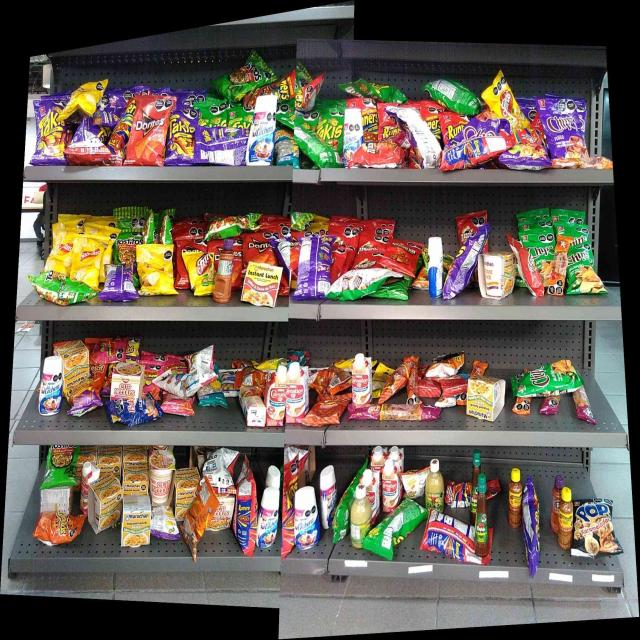bitzEnchilado90: (312, 397, 345, 422)
bitzEnchilado95: (552, 240, 567, 294), (554, 160, 612, 169)
bitzHabanero: (351, 405, 440, 420), (576, 393, 592, 422)
bokadosCacahuates: (110, 398, 156, 421)
botaneraChilito: (558, 487, 572, 550), (508, 467, 522, 530)
cheetosFlaminHot: (67, 384, 98, 414)
cheetosOriginal: (37, 516, 81, 544)
chipsFuego: (545, 100, 585, 159)
chipsJalapeno: (513, 363, 578, 391), (569, 249, 601, 294)
churrumais: (91, 338, 126, 362), (146, 361, 160, 396)
delPrimoSalsa: (350, 484, 369, 547), (425, 458, 444, 507)
doritosNacho: (134, 96, 164, 166), (244, 231, 278, 260)
fritosLimon: (490, 78, 522, 126), (188, 252, 212, 296)
leoCacahuates: (162, 373, 195, 393), (222, 369, 238, 395)
maruchanPollo: (467, 376, 505, 418), (479, 252, 511, 298), (91, 481, 120, 529), (122, 496, 148, 545), (64, 342, 88, 382)
maruchanRes: (244, 262, 280, 305)
nestleCarnation: (288, 364, 308, 422), (351, 353, 372, 403), (268, 366, 285, 426), (382, 460, 400, 500), (80, 462, 88, 515)
nestleLechera: (250, 96, 274, 165), (294, 486, 318, 546), (40, 357, 62, 415), (258, 488, 277, 548), (319, 465, 336, 527), (427, 236, 443, 298), (344, 108, 362, 155)
nissinCamaron: (150, 451, 174, 504)
popKarameladas: (574, 498, 617, 558)
productoAtras: (373, 502, 419, 555), (426, 510, 472, 560), (402, 106, 436, 168), (447, 234, 478, 299), (444, 136, 500, 169), (198, 127, 246, 165), (299, 238, 329, 298), (186, 486, 212, 552), (334, 268, 385, 300), (524, 478, 540, 576), (430, 78, 478, 106), (202, 450, 234, 483), (105, 264, 135, 298), (297, 125, 321, 167), (312, 368, 349, 392), (240, 390, 264, 426), (153, 507, 177, 540), (190, 345, 213, 372), (404, 470, 424, 499), (239, 368, 267, 388)
rancheritos: (513, 241, 540, 298), (364, 142, 401, 168), (388, 240, 417, 271)
runners: (236, 463, 256, 554)
sabritasOriginal: (139, 246, 174, 296), (73, 234, 101, 279), (68, 82, 100, 113), (48, 232, 71, 269)
salsaBufalo: (474, 474, 490, 556)
semillasGirasol: (277, 129, 294, 165)
tajinDulce: (213, 240, 234, 304)
takisFuego: (34, 99, 64, 165), (168, 109, 196, 166)
takisOriginal: (323, 107, 342, 149)
tostitos: (217, 60, 270, 89), (46, 445, 76, 487), (37, 272, 71, 301), (116, 230, 138, 263)
